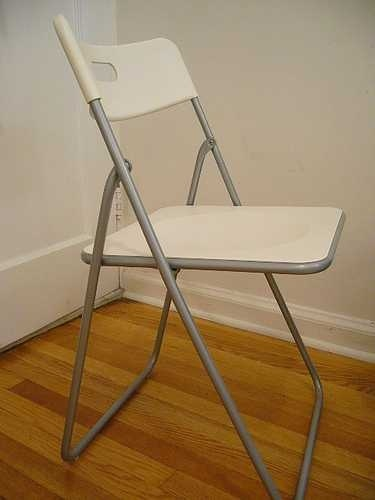obstacle: (53, 15, 344, 499)
